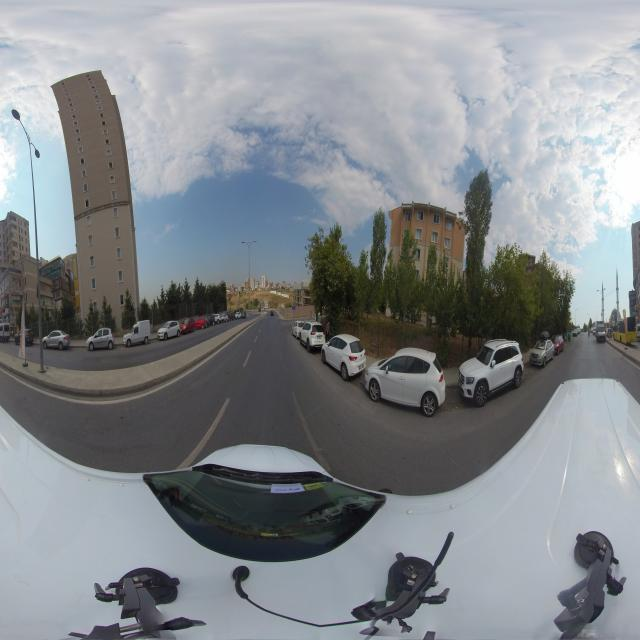SignStore: (1, 291, 9, 300), (12, 291, 23, 295), (4, 308, 8, 315), (10, 323, 16, 327)
